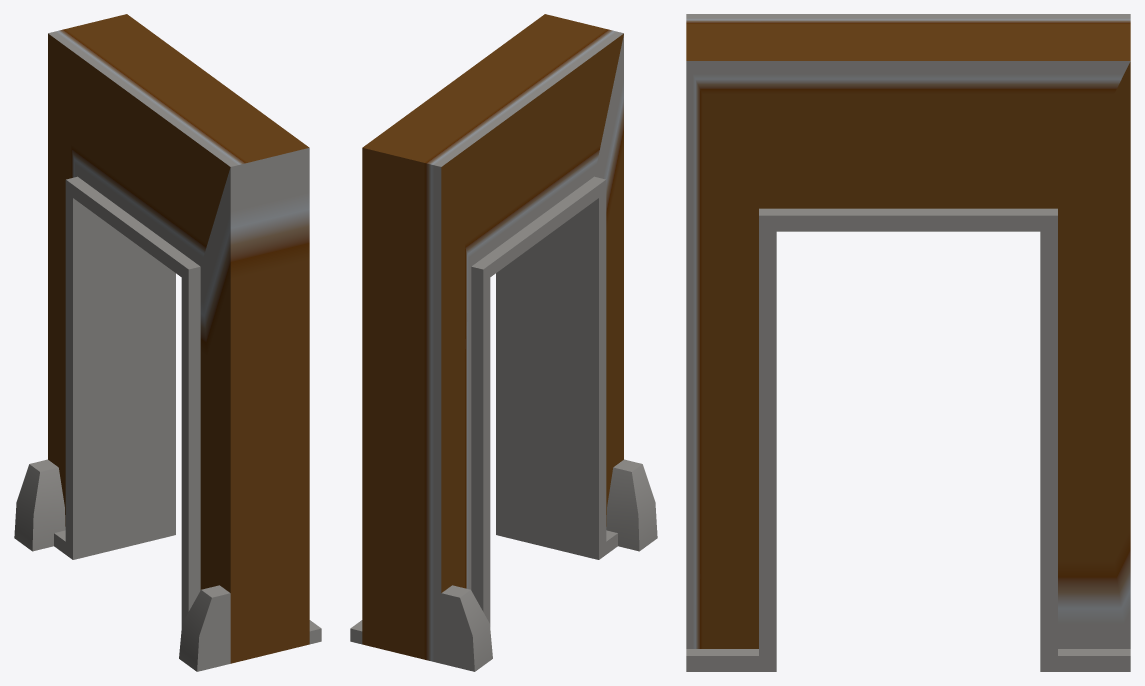
Rendered from SM_Wall_Doorframe_NoTop.fbx.
The picture shows the model from 3 angles, left to right: view 1: azimuth 30°, elevation 25°; view 2: azimuth 150°, elevation 25°; view 3: azimuth 270°, elevation 25°; orthographic projection. The views are drawn at different scales.
Visible parts, largest first — view 1: SM_Wall_Doorframe_NoTop; view 2: SM_Wall_Doorframe_NoTop; view 3: SM_Wall_Doorframe_NoTop.
Part boxes in pixels (x1=…): SM_Wall_Doorframe_NoTop: x1=14, y1=14, x2=321, y2=671; SM_Wall_Doorframe_NoTop: x1=350, y1=14, x2=657, y2=671; SM_Wall_Doorframe_NoTop: x1=686, y1=14, x2=1130, y2=671.
Size of the model in its own units: 78.71 by 300 by 200.
